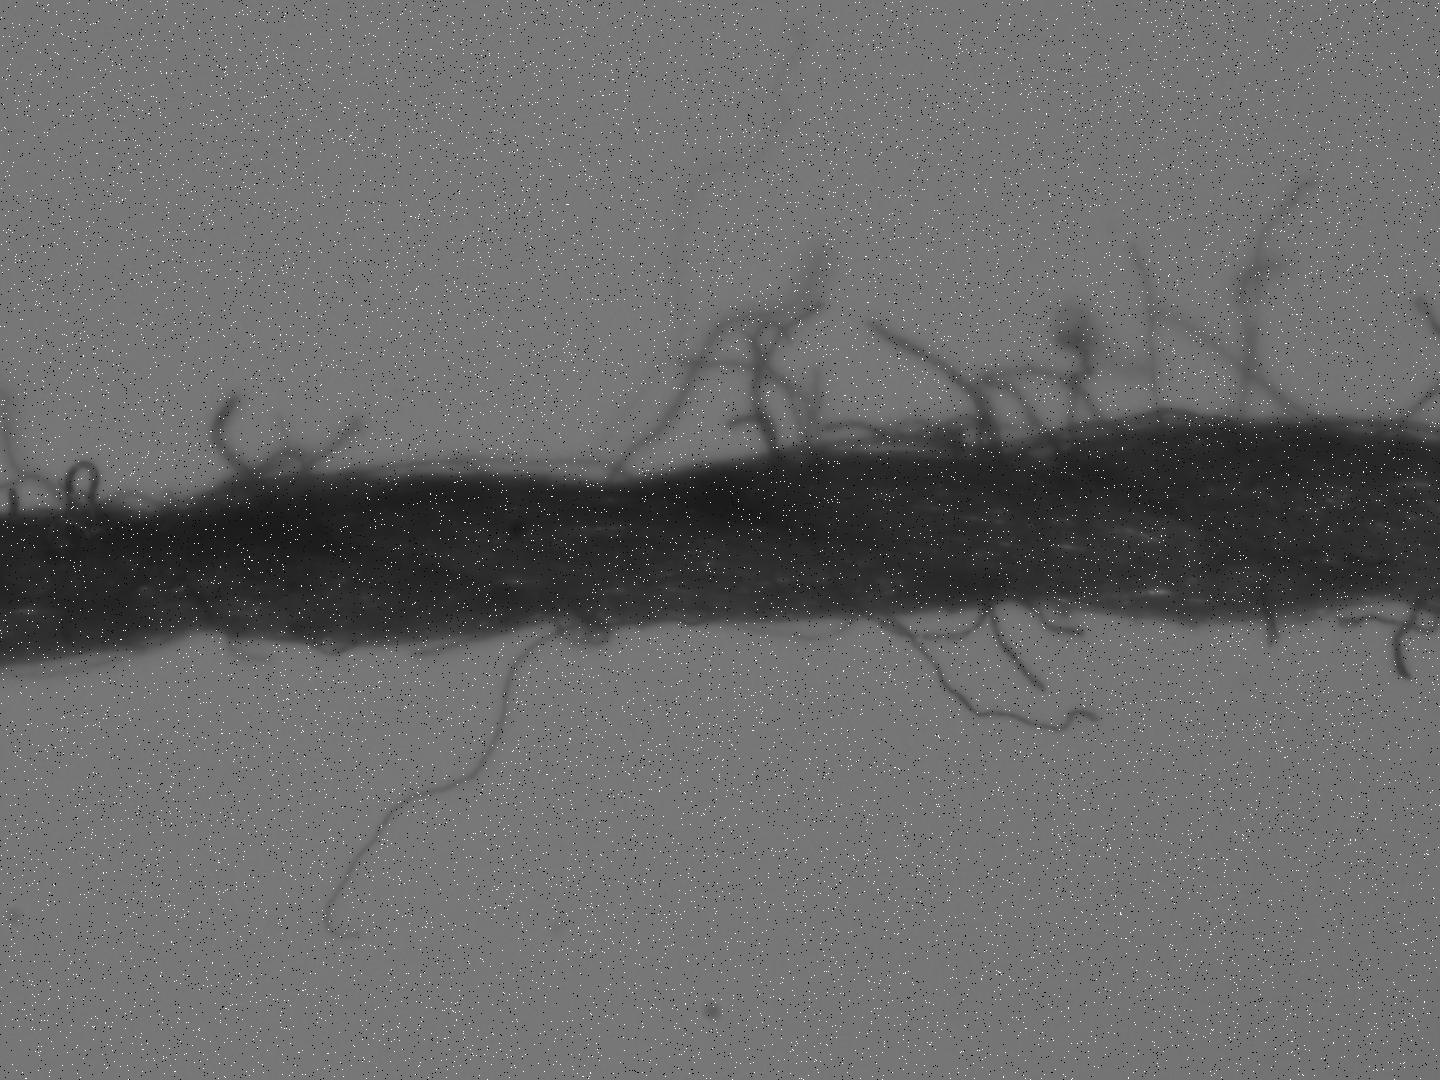loop_fiber: (805, 253, 1329, 457), (1, 413, 179, 525), (324, 452, 646, 487), (202, 445, 324, 500), (861, 600, 999, 641), (719, 614, 854, 643)
protruding_fiber: (583, 14, 819, 492), (319, 618, 593, 942), (608, 243, 831, 486), (879, 599, 1108, 736), (1237, 169, 1315, 420), (865, 317, 999, 454), (670, 352, 813, 456), (749, 296, 828, 471), (1386, 294, 1440, 442), (988, 592, 1049, 686), (298, 410, 367, 484), (209, 388, 263, 481), (1391, 593, 1433, 687), (1339, 599, 1440, 638), (1016, 597, 1093, 640)
